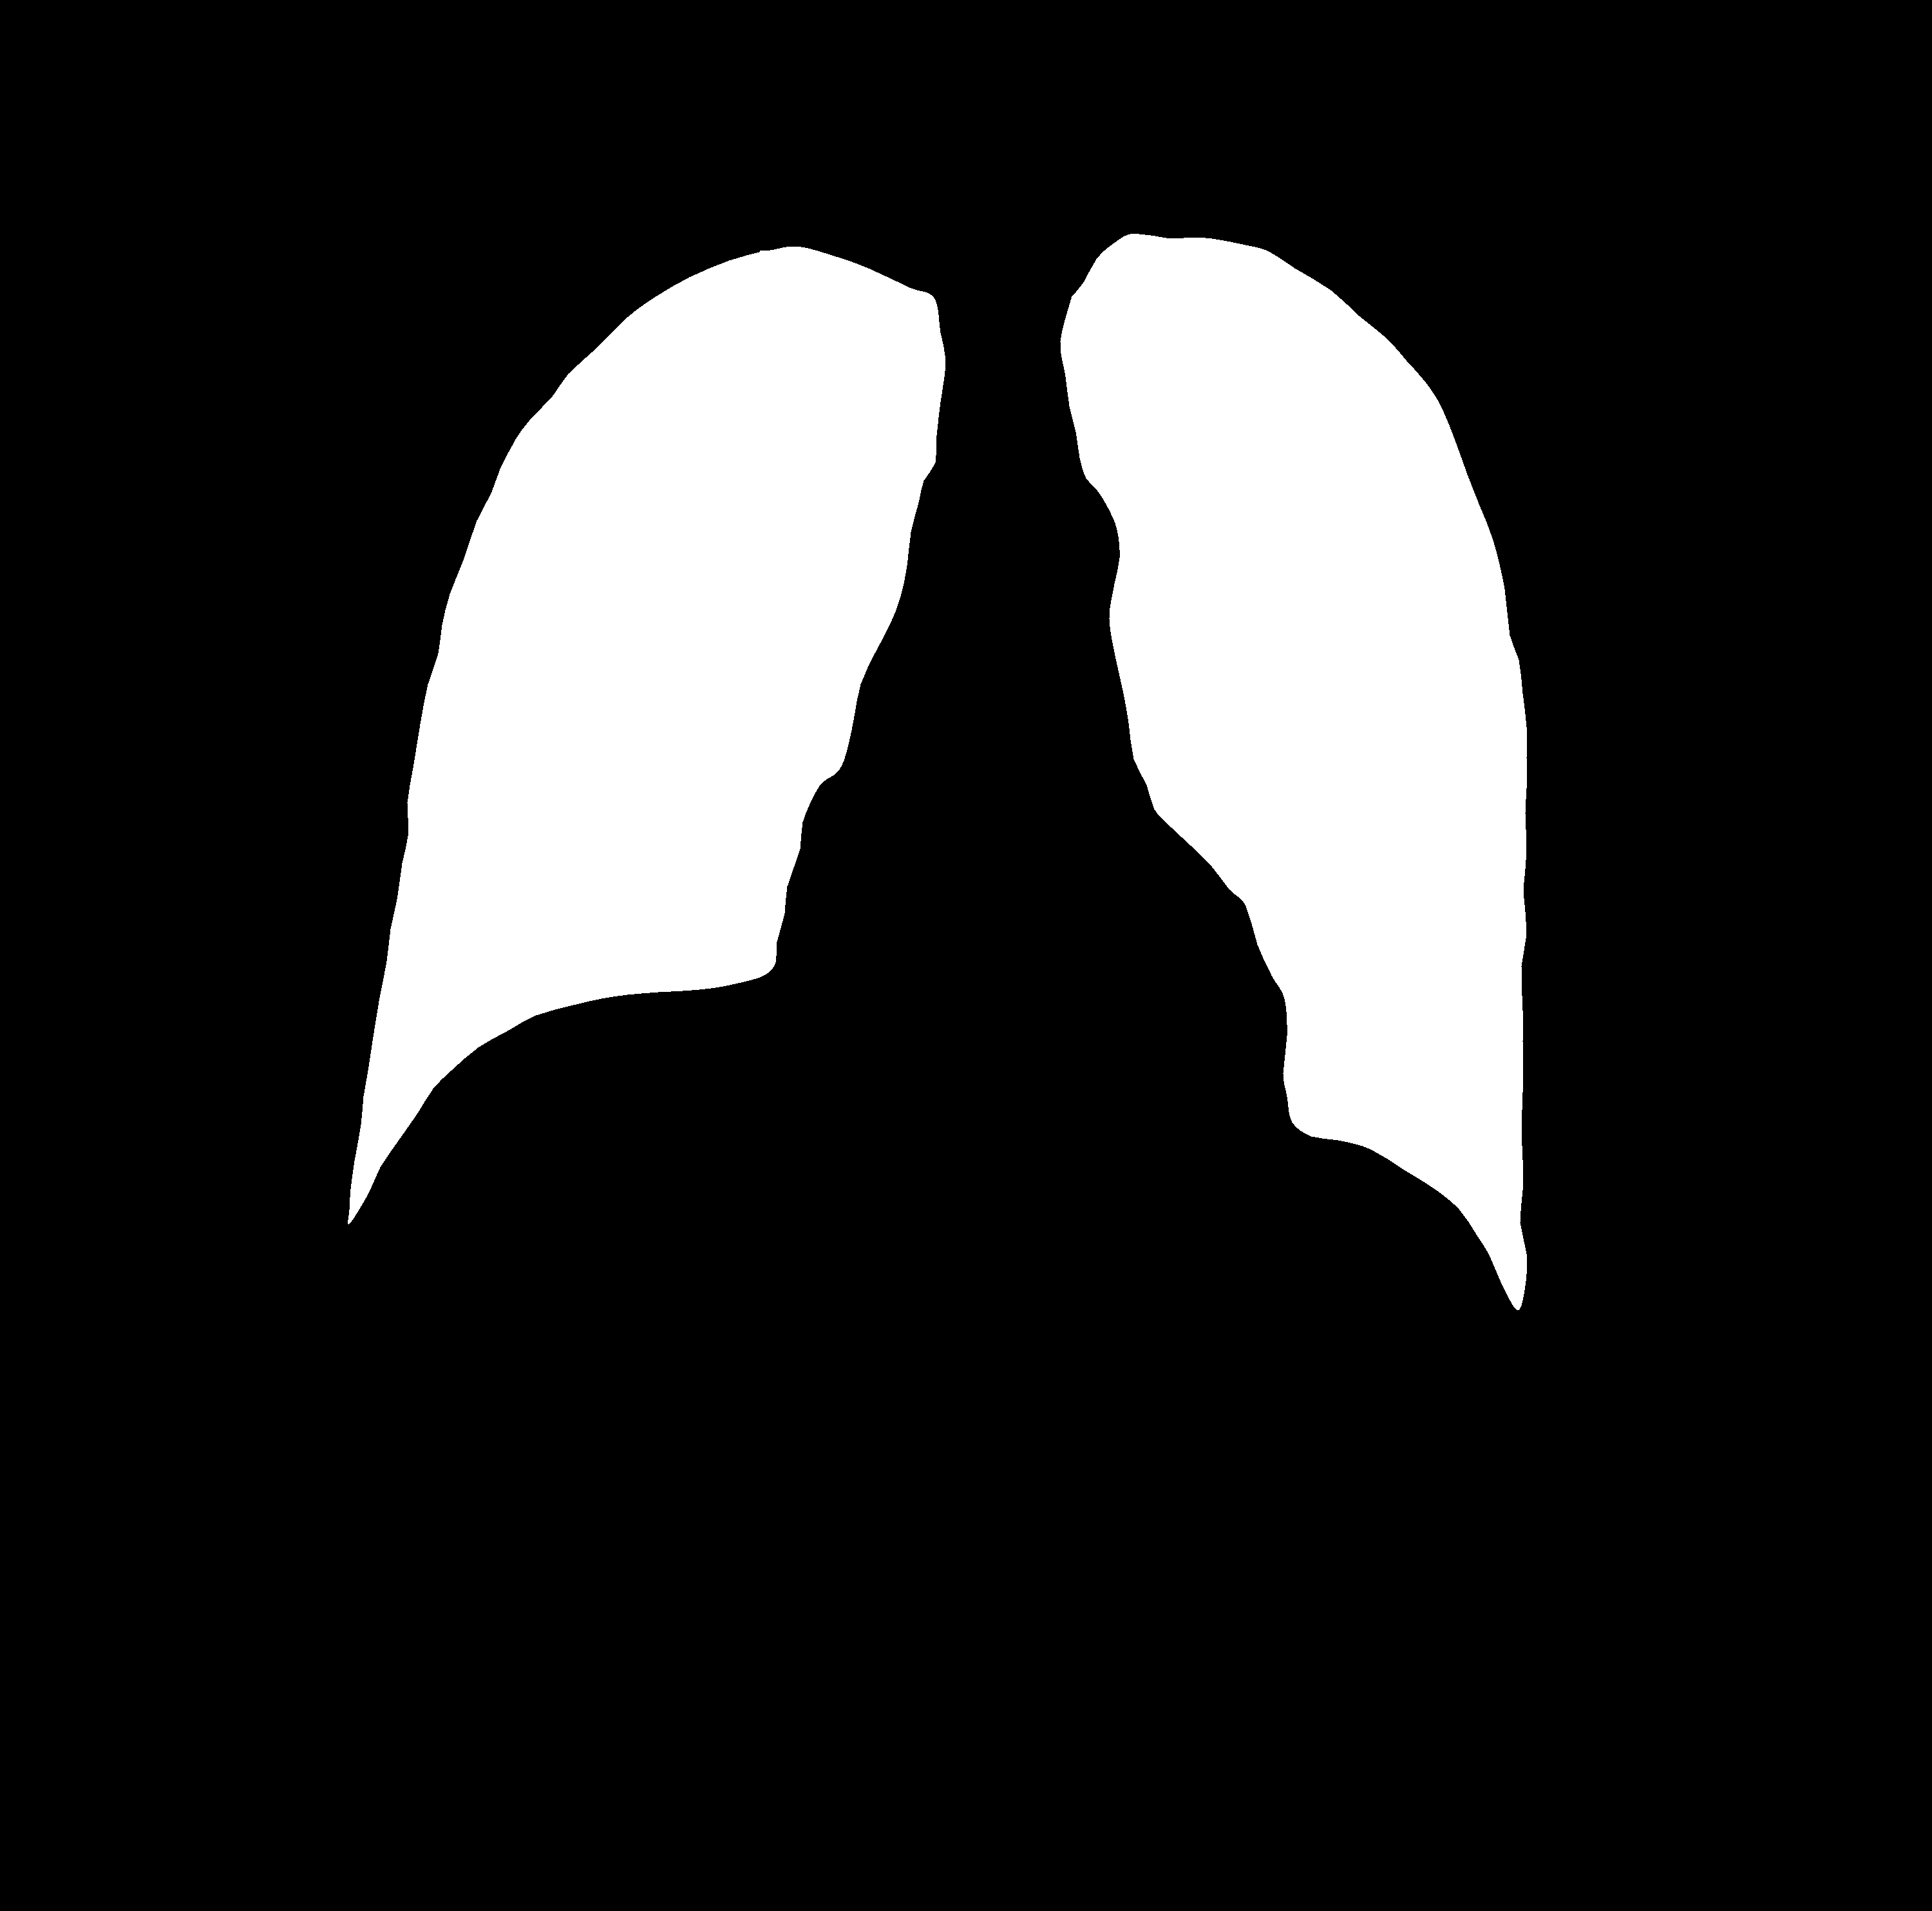heart: (770, 768, 1300, 1143)
left_lung: (347, 247, 945, 1214)
right_lung: (1060, 234, 1528, 1311)
